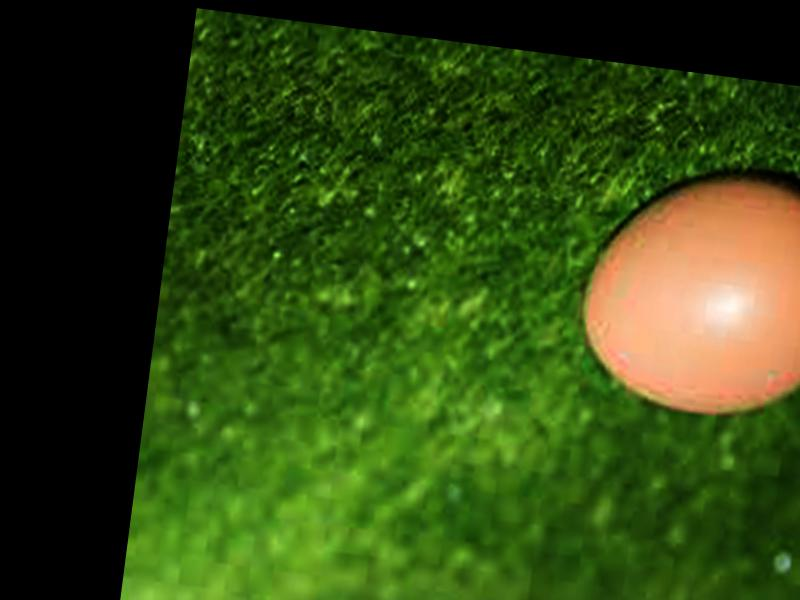Eggs: (568, 152, 800, 428)
